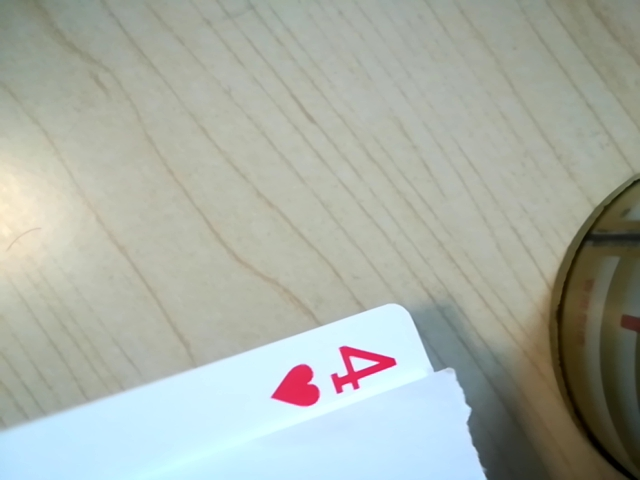hx 4: (276, 337, 418, 412)
